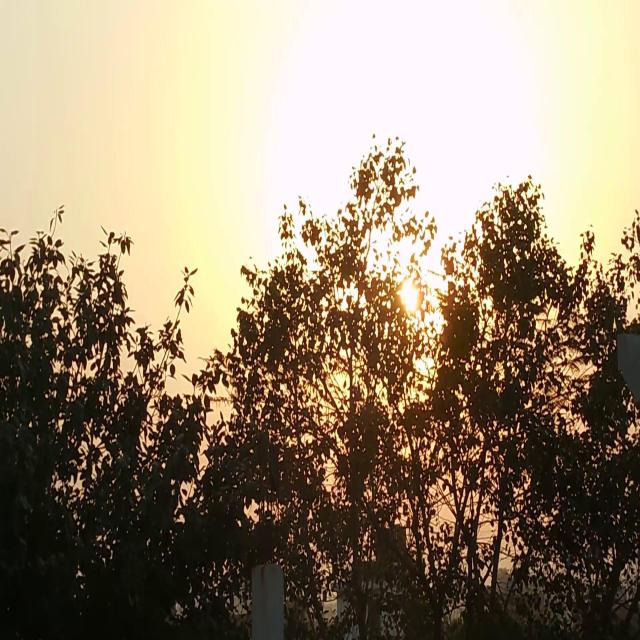other: (230, 4, 582, 395)
